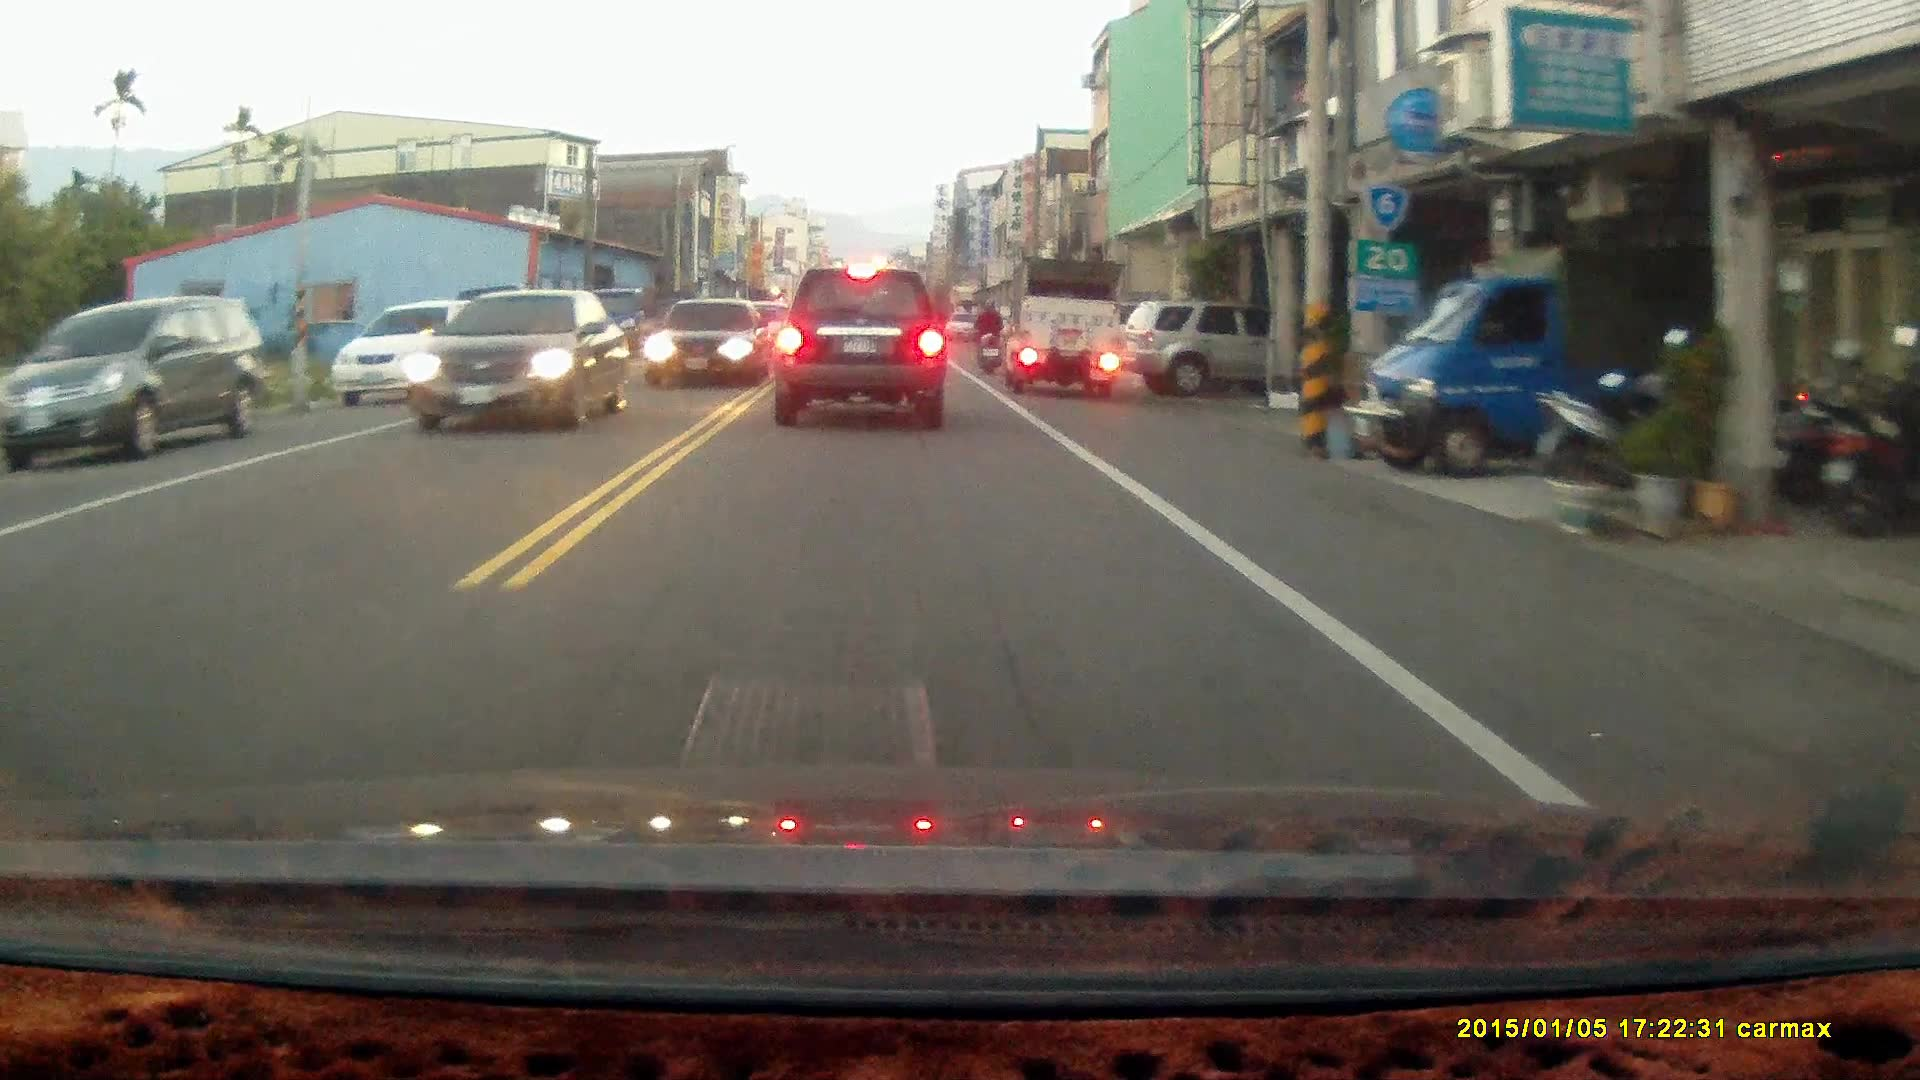rider: (972, 293, 1006, 371)
vehicle: (1364, 201, 1739, 475), (9, 290, 272, 461), (405, 288, 630, 429), (770, 262, 948, 429), (332, 298, 514, 415), (1014, 249, 1123, 389), (1124, 298, 1274, 399), (645, 298, 764, 385), (581, 285, 677, 362)
